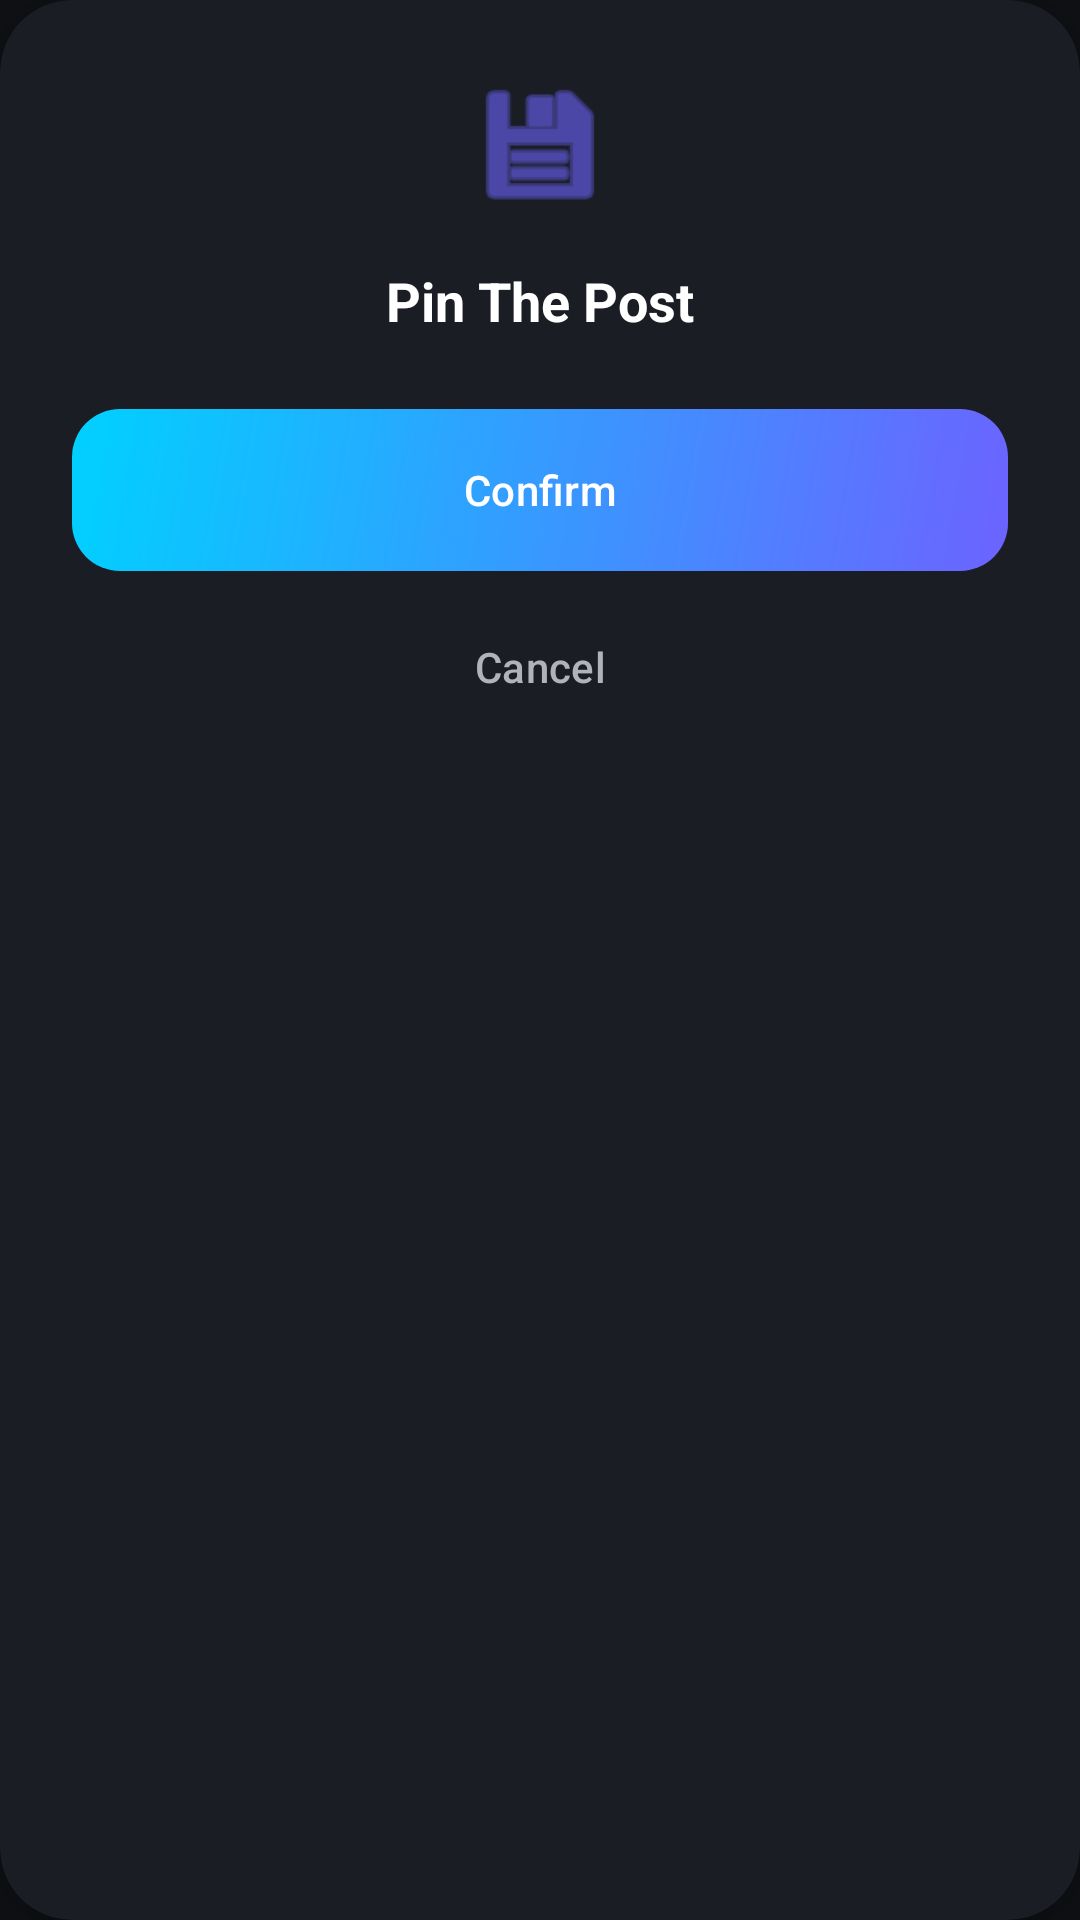

Screen size 1080w x 1920h. Icon name, then its center in pixels as [x,y]:
save: [540,145]
